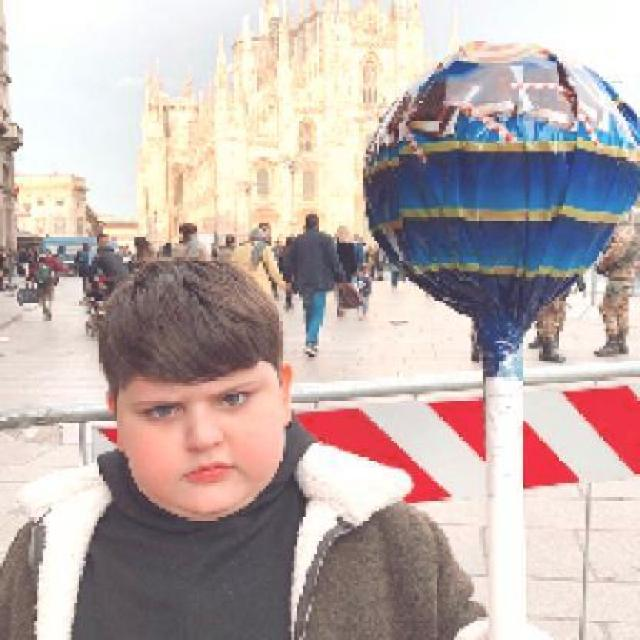child: (3, 254, 480, 637)
